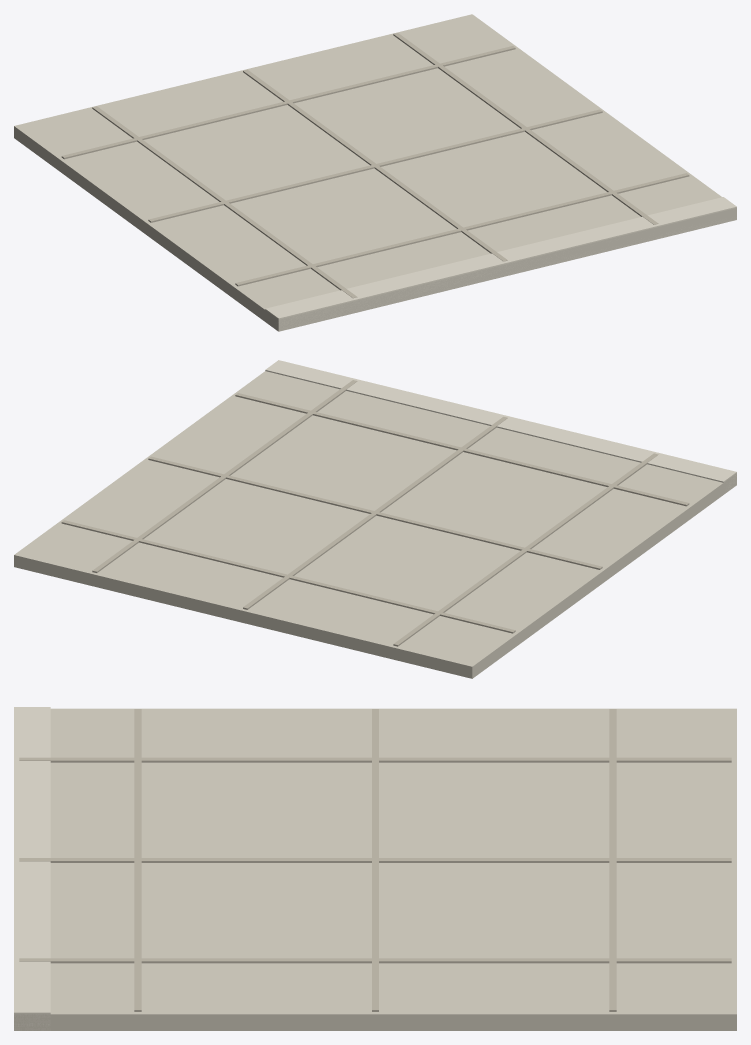
File: pavement.glb
3 views of the same model, one above another, from view 1: azimuth 30°, elevation 25°; view 2: azimuth 150°, elevation 25°; view 3: azimuth 270°, elevation 25° (orthographic). The views are drawn at different scales.
Visible parts, largest first — view 1: root; view 2: root; view 3: root.
Boxes of the visible parts, x1,y1,x2,y2 form: root: [14, 14, 736, 331]; root: [14, 360, 736, 678]; root: [14, 707, 736, 1030].
Size of the model in its own units: 3.96 by 0.112 by 3.96.
